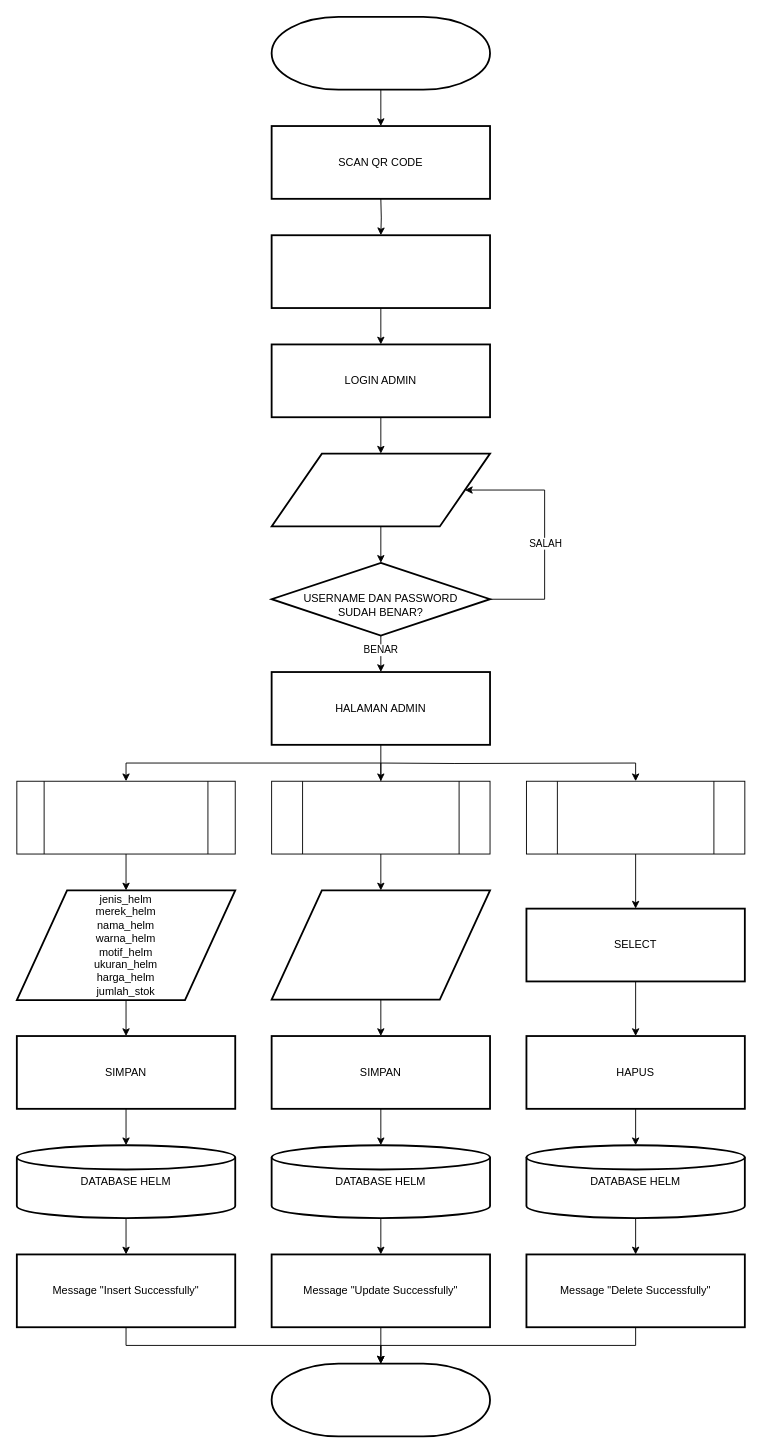
Image size: 761x1452. Some labels were removed from this diagram. Each missing label, with the box of its shape:
CREATE: (16, 780, 235, 854)
DELETE: (526, 780, 745, 854)
HALAMAN BERANDA: (270, 234, 490, 308)
jenis_helm merek_helm nama_helm warna_helm motif_helm ukuran_helm harga_helm: (270, 889, 490, 1000)
MASUKKAN USERNAME DAN PASSWORD: (270, 452, 490, 527)
MULAI: (270, 15, 490, 90)
SELESAI: (270, 1362, 490, 1437)
UPDATE: (271, 780, 490, 854)
